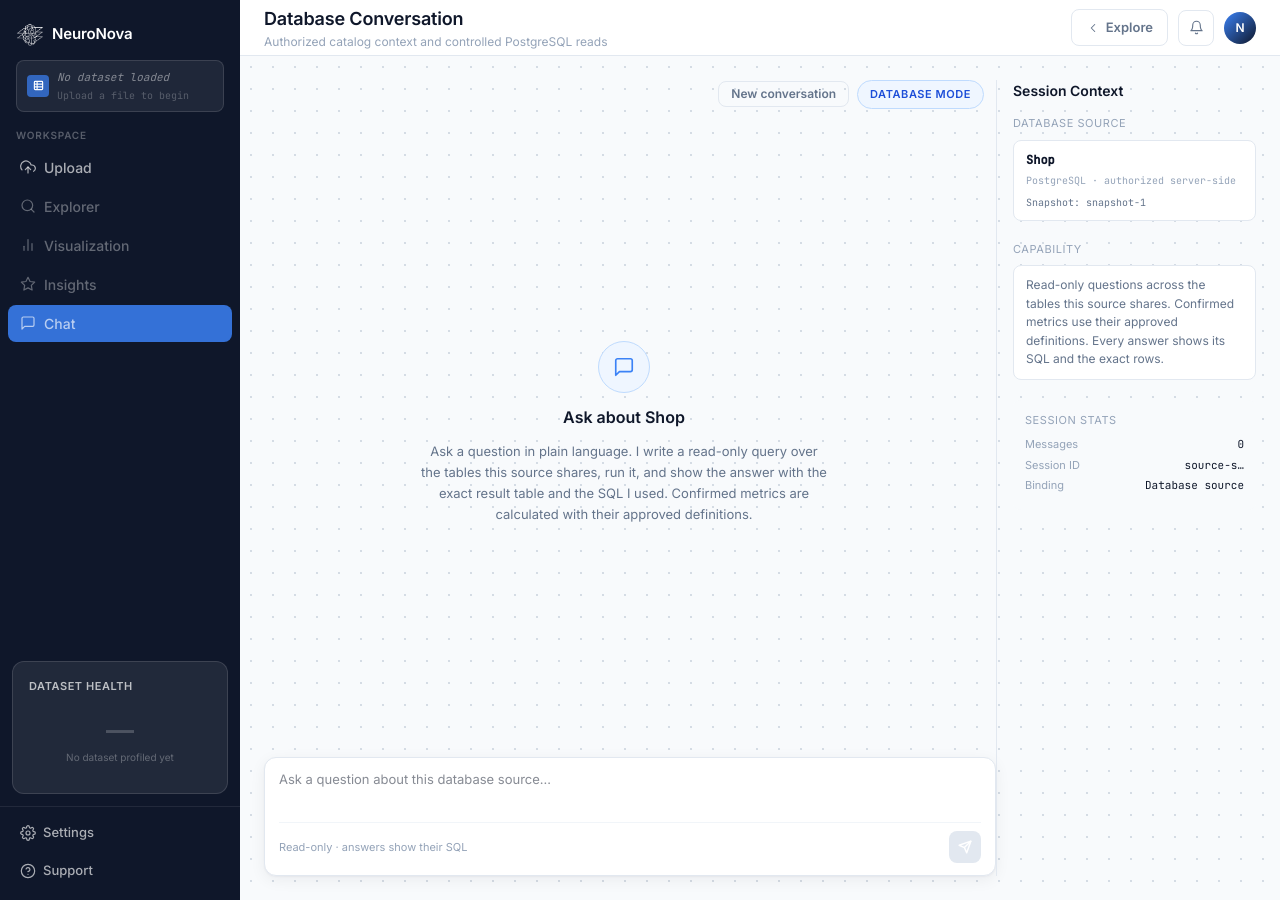
Test: E9: a pre-acceptance failure removes the bubbles, restores the question and explains
The width and height of the screenshot is (1280, 900).
Type "How many orders?" into the text box named "Database question" at (630, 790), box [279,770,981,809]
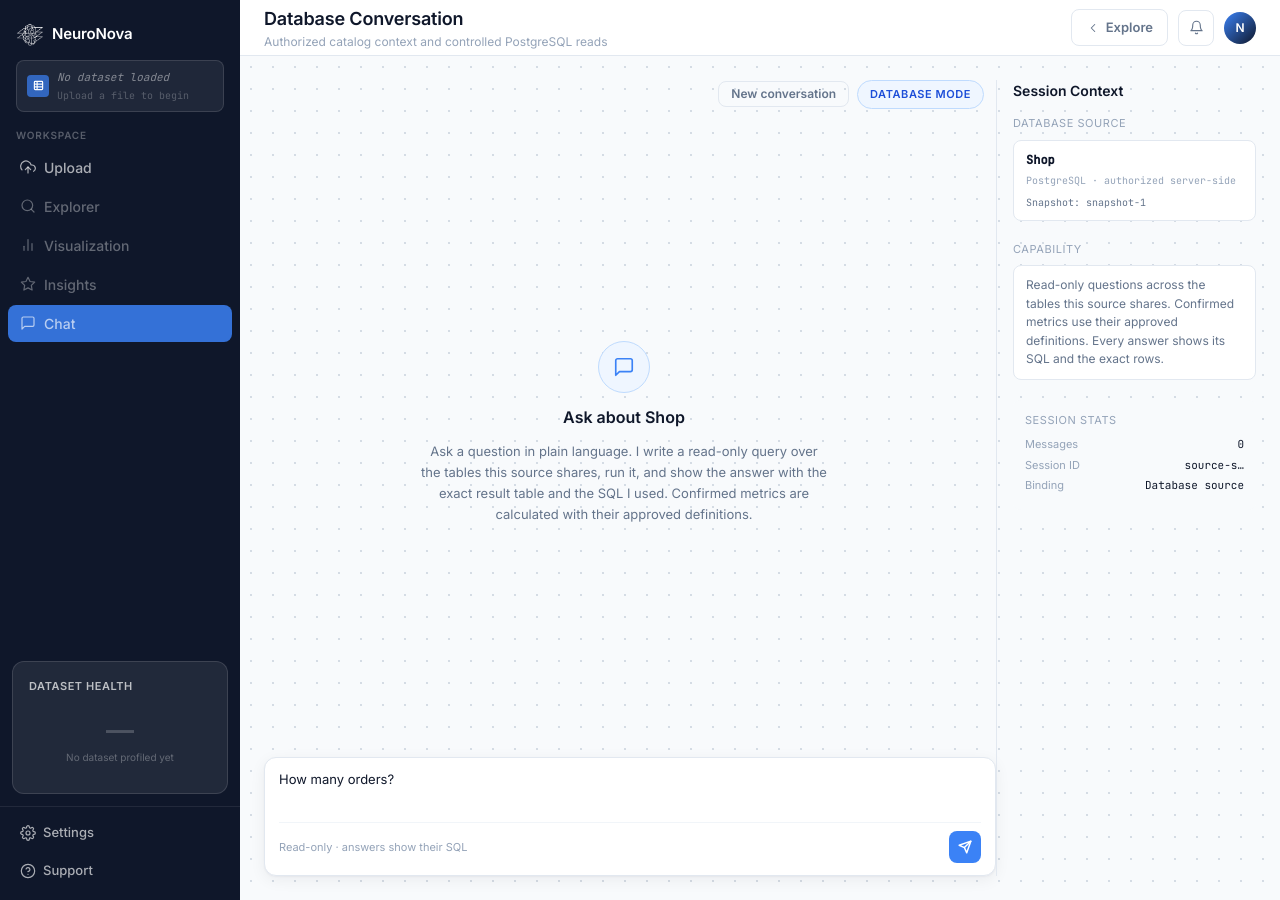
Click the button named "Send database question" at (965, 847), box [949,831,981,863]
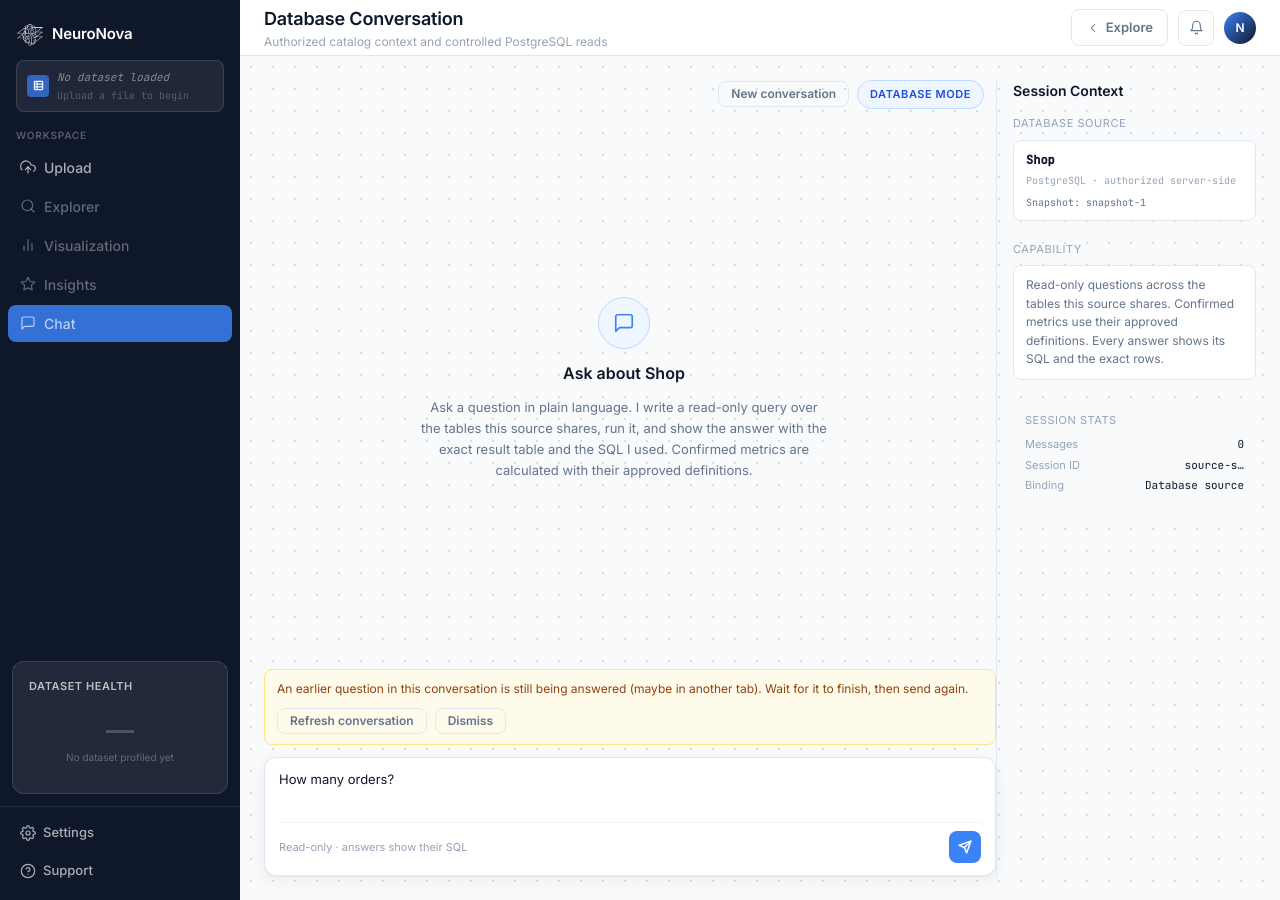
Expected: the text box named "Database question" is enabled, [279,770,981,809]
Now the message shows "still being answered", box [277,681,968,696]
